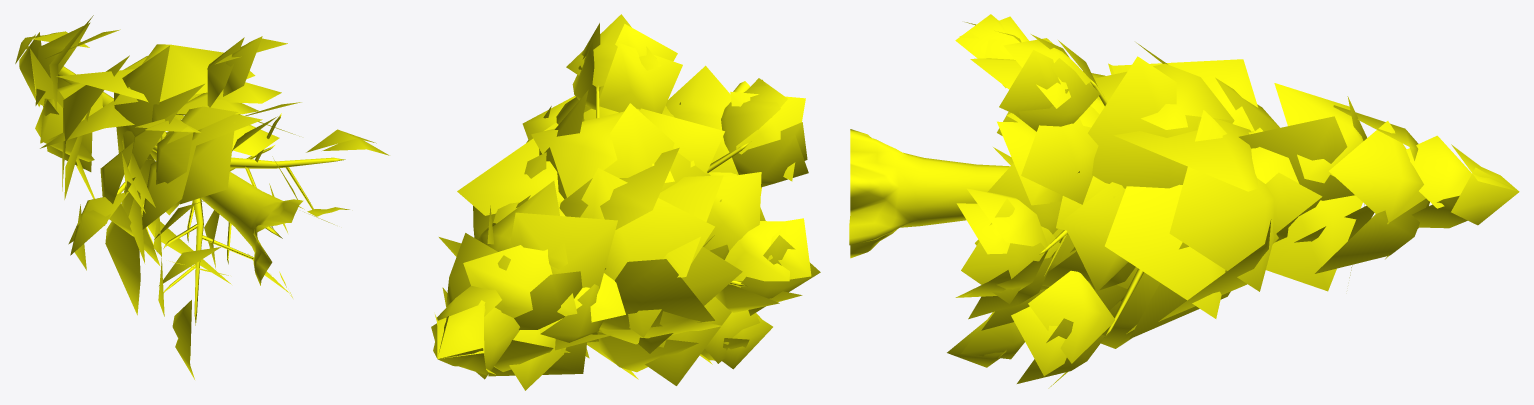
The model's file is pine_tree.glb.
3 renders of one model, left to right at view 1: azimuth 30°, elevation 25°; view 2: azimuth 150°, elevation 25°; view 3: azimuth 270°, elevation 25°, orthographic. The views are drawn at different scales.
Parts seen in each view (by area): view 1: Pine_tree1; view 2: Pine_tree1; view 3: Pine_tree1.
Part boxes in pixels (x1=…): Pine_tree1: x1=15, y1=15, x2=389, y2=379; Pine_tree1: x1=431, y1=14, x2=820, y2=390; Pine_tree1: x1=849, y1=14, x2=1519, y2=388.
Size of the model in its own units: 11.65 by 11.84 by 19.39.
2 materials, 2 textured.
